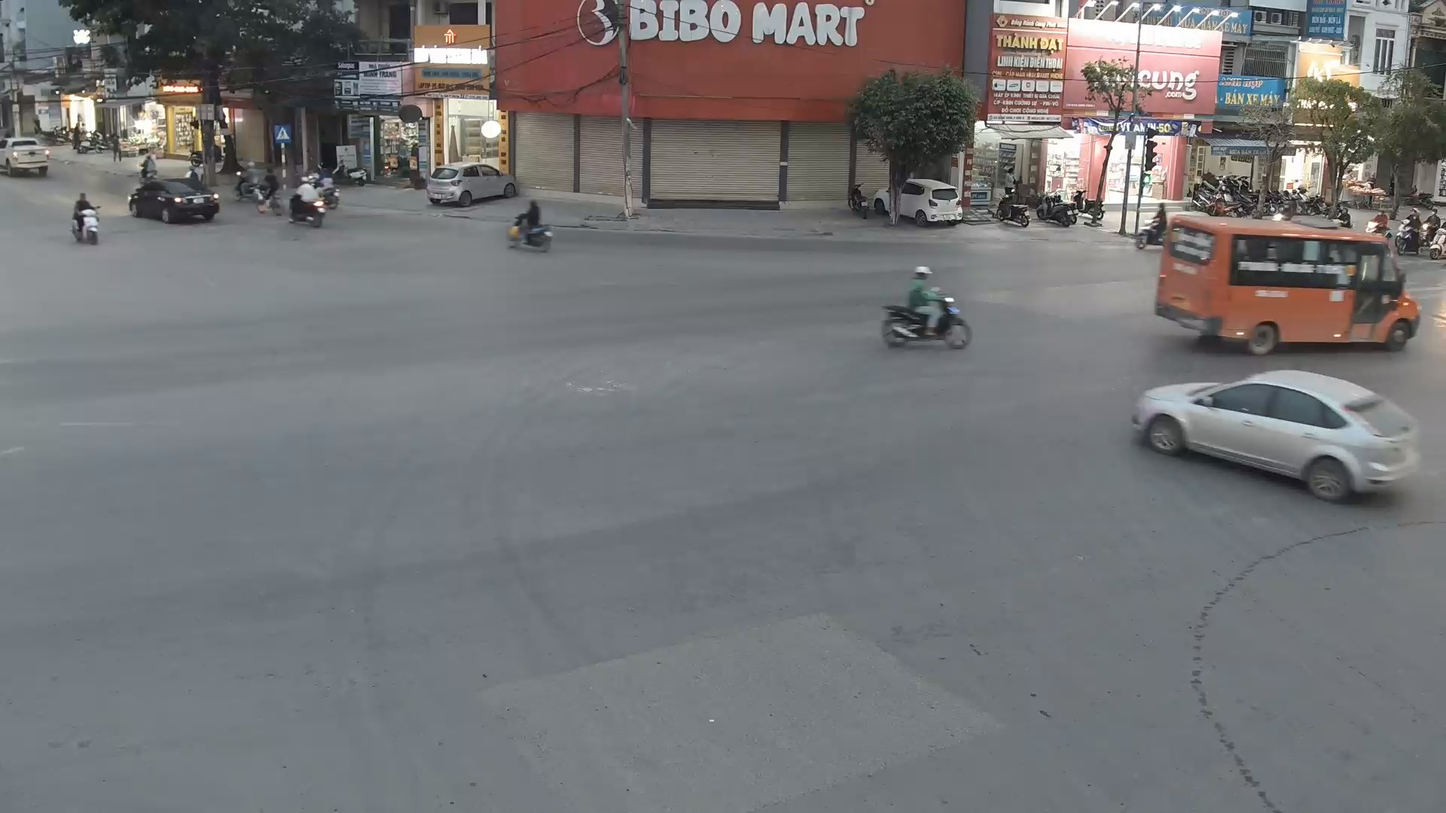car: (1127, 369, 1419, 503), (1152, 219, 1422, 355), (127, 175, 221, 225), (425, 161, 520, 209), (1, 137, 51, 178)
motorbike: (878, 263, 974, 352), (506, 197, 555, 253), (70, 190, 102, 246)
